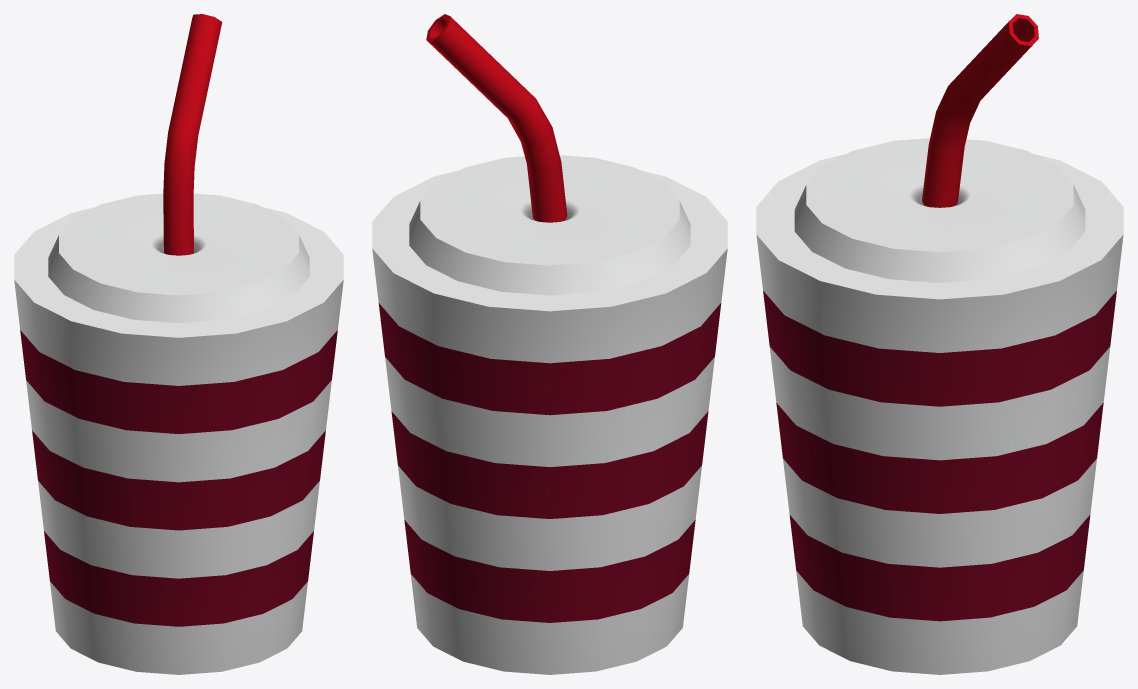
The model's file is Product Soda.fbx.
3 views of the same model, side by side, from view 1: azimuth 30°, elevation 25°; view 2: azimuth 150°, elevation 25°; view 3: azimuth 270°, elevation 25° (orthographic). The views are drawn at different scales.
Parts seen in each view (by area): view 1: Product_Soda; view 2: Product_Soda; view 3: Product_Soda.
Part boxes in pixels (x1,y1,x2,y2): Product_Soda: [14, 14, 343, 674]; Product_Soda: [372, 14, 727, 674]; Product_Soda: [756, 14, 1123, 674].
Bounding box in the file's own units: 88.26 × 165 × 86.92.
